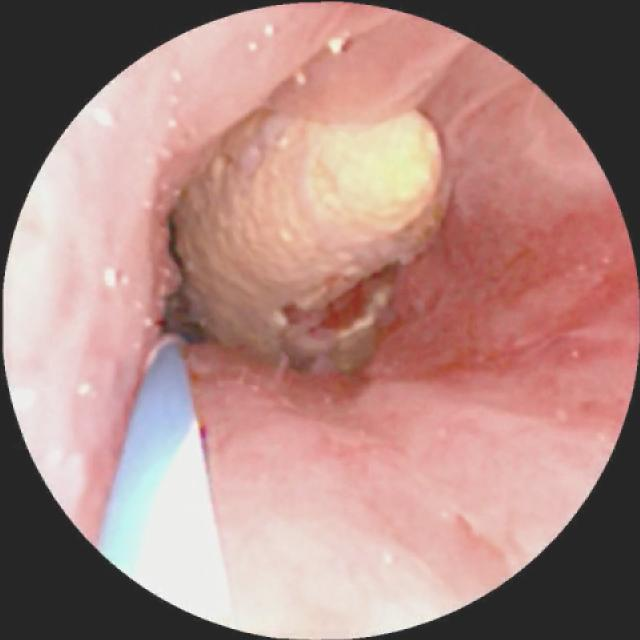stone: (166, 104, 436, 368)
tissue: (16, 9, 630, 624)
